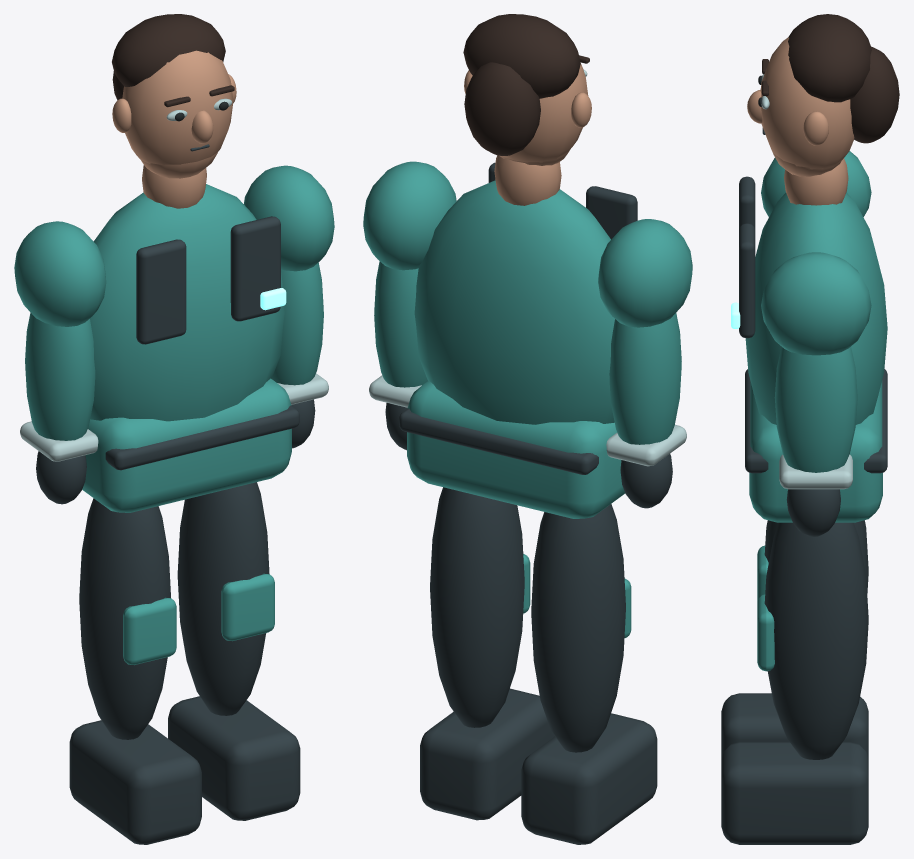
Rendered from npc-mara.glb.
3 renders of one model, left to right at view 1: azimuth 30°, elevation 25°; view 2: azimuth 150°, elevation 25°; view 3: azimuth 270°, elevation 25°, orthographic. The views are drawn at different scales.
Parts seen in each view (by area): view 1: Coat torso, Trouser, Trouser.001, Coat hem, Boot, Boot.001, Face, Shoulder, Sleeve, Shoulder.001, Hair cap, Lapel (+11 smaller); view 2: Coat torso, Trouser, Trouser.001, Coat hem, Boot, Boot.001, Shoulder, Sleeve, Shoulder.001, Hair cap, Tied hair, Sleeve.001 (+8 smaller); view 3: Trouser.001, Boot.001, Coat torso, Shoulder.001, Sleeve.001, Coat hem, Face, Hair cap, Boot, Tied hair, Glove.001, Neck (+11 smaller).
Boxes of the visible parts, <box> form: Coat torso: <box>90,184,284,421</box>; Trouser: <box>79,498,170,739</box>; Trouser.001: <box>177,482,269,715</box>; Coat hem: <box>82,378,291,512</box>; Boot: <box>69,720,201,844</box>; Boot.001: <box>168,696,300,820</box>; Face: <box>122,50,233,165</box>; Shoulder: <box>14,221,106,326</box>; Sleeve: <box>25,312,95,440</box>; Shoulder.001: <box>244,165,334,271</box>; Hair cap: <box>112,14,225,86</box>; Lapel: <box>136,239,186,344</box>; Coat torso: <box>414,180,614,424</box>; Trouser: <box>531,504,625,752</box>; Trouser.001: <box>430,487,524,727</box>; Coat hem: <box>407,380,625,518</box>; Boot: <box>521,713,657,844</box>; Boot.001: <box>420,688,554,820</box>; Shoulder: <box>598,219,692,327</box>; Sleeve: <box>609,313,681,444</box>; Shoulder.001: <box>363,161,456,270</box>; Hair cap: <box>463,14,580,98</box>; Tied hair: <box>464,62,540,155</box>; Sleeve.001: <box>374,261,427,387</box>; Trouser.001: <box>764,522,868,759</box>; Boot.001: <box>721,742,868,844</box>; Coat torso: <box>745,192,887,424</box>; Shoulder.001: <box>761,252,871,355</box>; Sleeve.001: <box>774,346,857,472</box>; Coat hem: <box>749,380,882,522</box>; Face: <box>760,37,854,169</box>; Hair cap: <box>788,14,871,102</box>; Boot: <box>721,693,868,759</box>; Tied hair: <box>850,46,899,143</box>; Glove.001: <box>786,489,840,536</box>; Neck: <box>784,158,848,205</box>.
Bounding box in the file's own units: 0.772 × 1.88 × 0.387.
